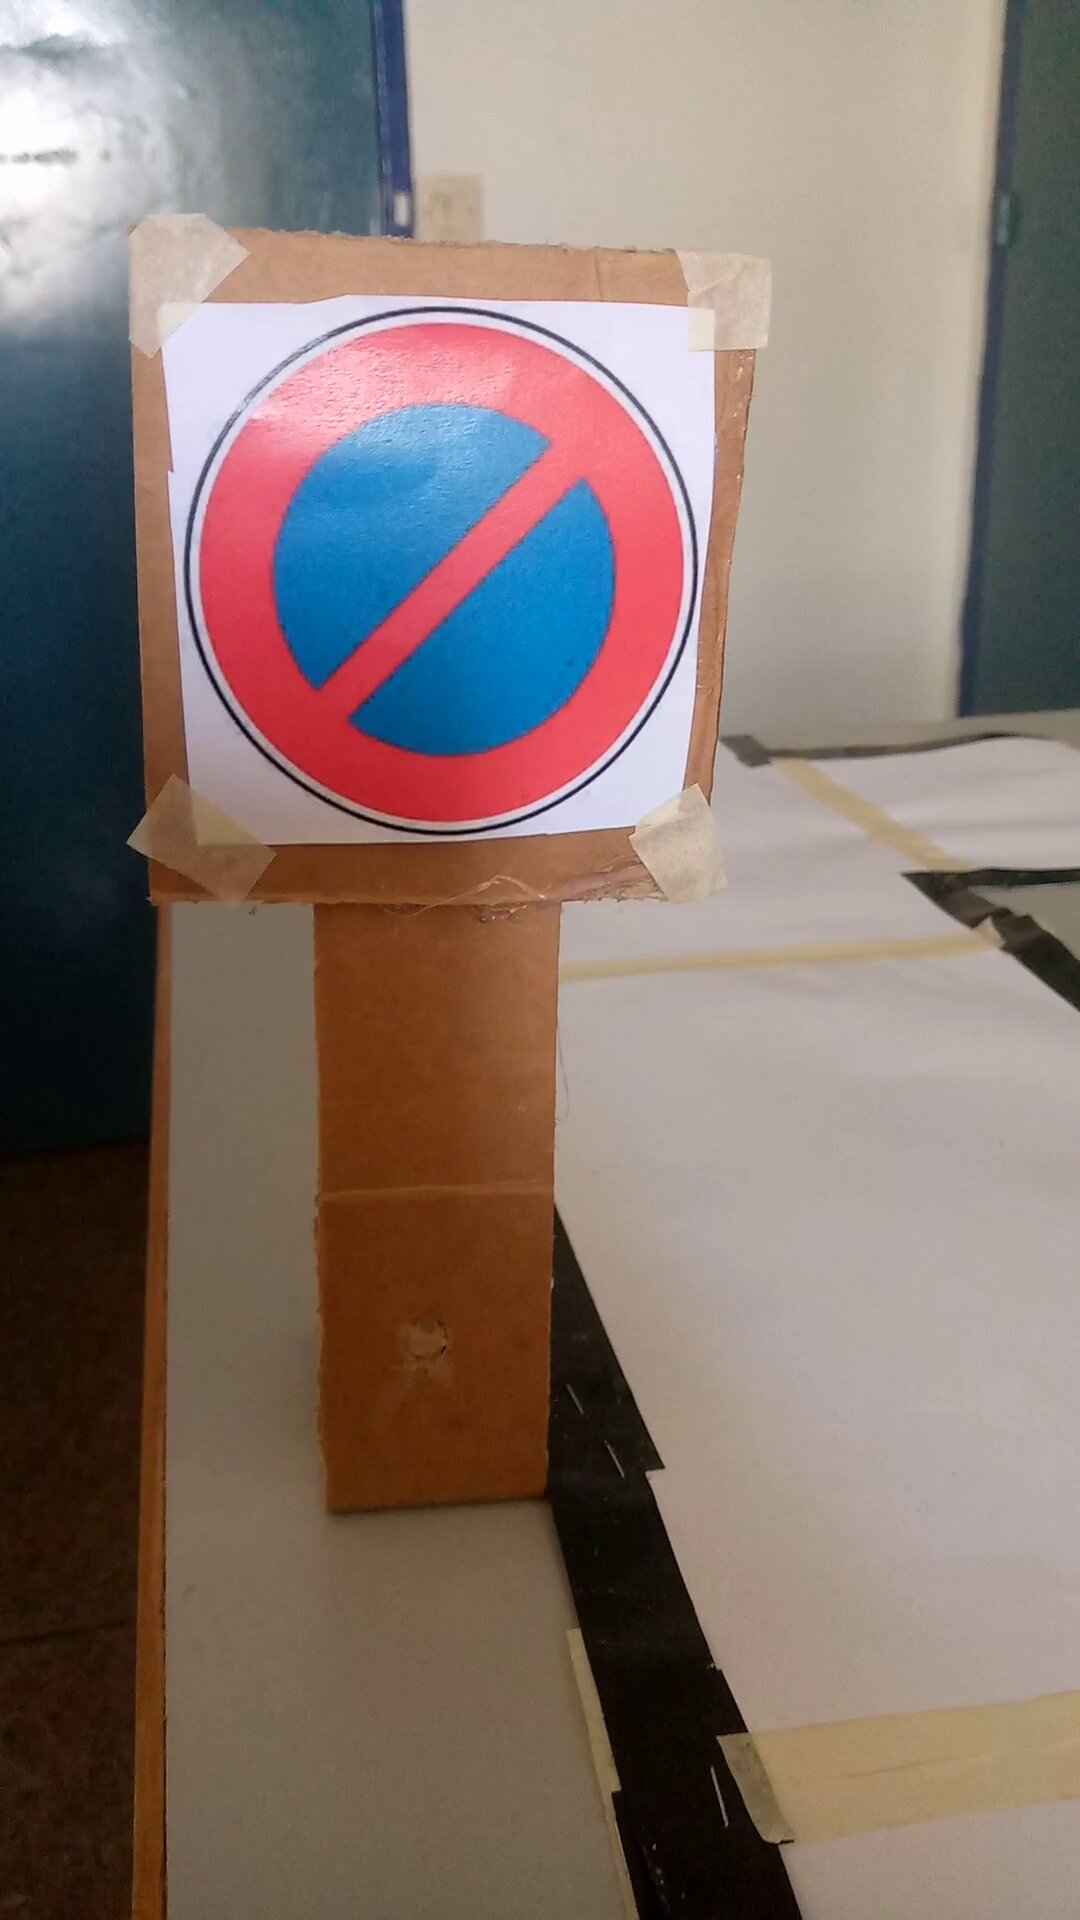panel110: (156, 272, 698, 857)
